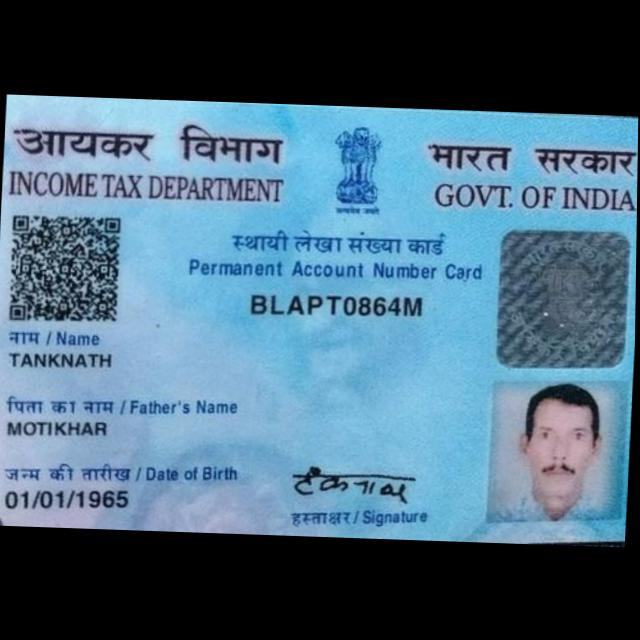pan: (0, 93, 639, 546)
